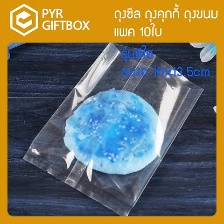snack: (16, 35, 209, 216)
